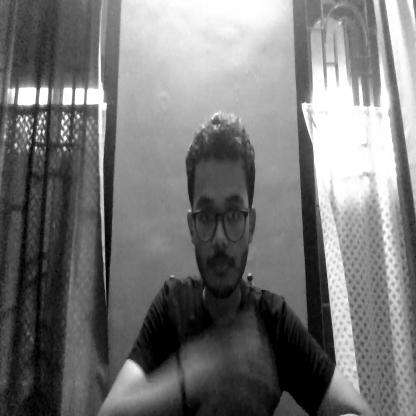Normal: (177, 112, 261, 297)
